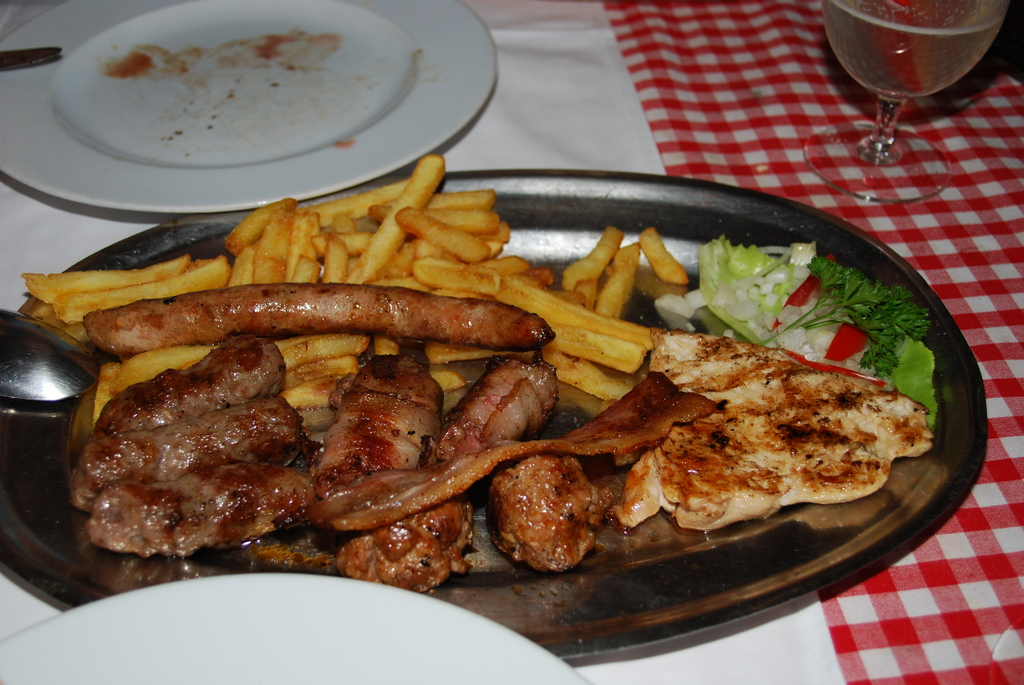French fries: (193, 177, 558, 303)
